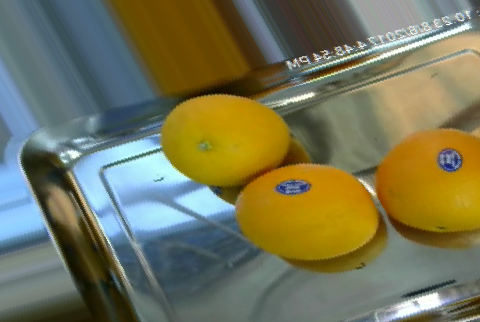Orange: (231, 161, 378, 260), (159, 94, 291, 186), (375, 127, 480, 233)
